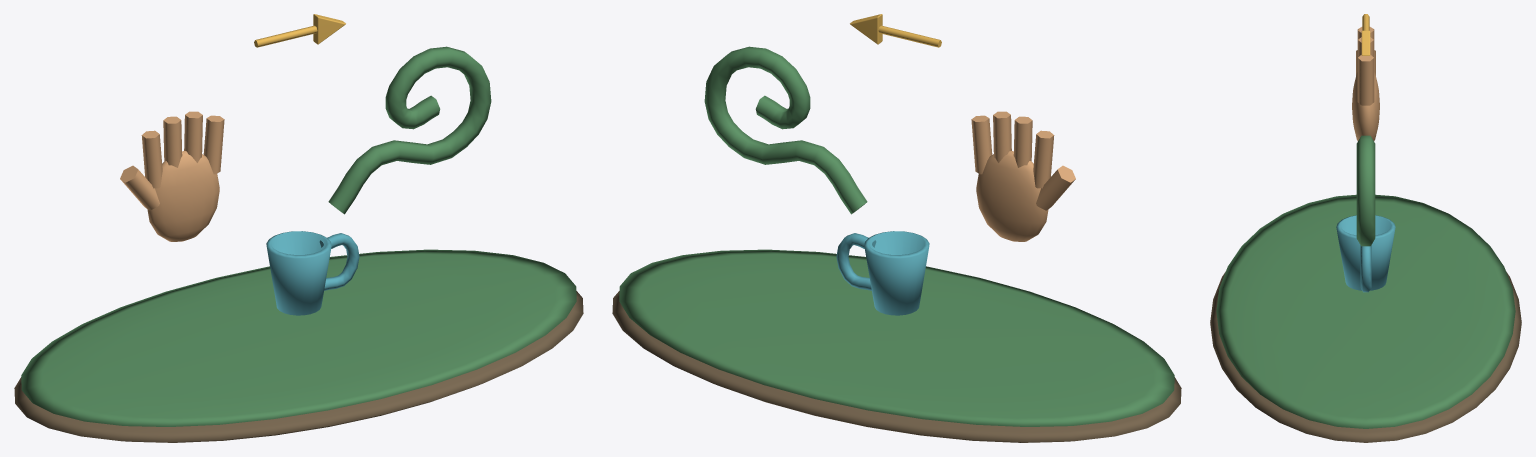
Rendered from complete-first-handle-object-tail.glb.
3 renders of one model, left to right at view 1: azimuth 30°, elevation 25°; view 2: azimuth 150°, elevation 25°; view 3: azimuth 270°, elevation 25°, orthographic. The views are drawn at different scales.
Visible parts, largest first — view 1: complete-first-handle-object-tail_surface_01, complete-first-handle-object-tail_surface_00, complete-first-handle-object-tail_surface_02, complete-first-handle-object-tail_surface_03, complete-first-handle-object-tail_surface_04; view 2: complete-first-handle-object-tail_surface_01, complete-first-handle-object-tail_surface_00, complete-first-handle-object-tail_surface_02, complete-first-handle-object-tail_surface_03, complete-first-handle-object-tail_surface_04; view 3: complete-first-handle-object-tail_surface_01, complete-first-handle-object-tail_surface_00, complete-first-handle-object-tail_surface_03, complete-first-handle-object-tail_surface_02, complete-first-handle-object-tail_surface_04.
Boxes of the visible parts, bbox=[...] form: complete-first-handle-object-tail_surface_01: bbox=[21, 46, 576, 426]; complete-first-handle-object-tail_surface_00: bbox=[14, 291, 583, 442]; complete-first-handle-object-tail_surface_02: bbox=[120, 111, 224, 241]; complete-first-handle-object-tail_surface_03: bbox=[266, 231, 359, 315]; complete-first-handle-object-tail_surface_04: bbox=[254, 14, 345, 47]; complete-first-handle-object-tail_surface_01: bbox=[619, 46, 1174, 426]; complete-first-handle-object-tail_surface_00: bbox=[612, 291, 1181, 442]; complete-first-handle-object-tail_surface_02: bbox=[971, 111, 1075, 241]; complete-first-handle-object-tail_surface_03: bbox=[836, 231, 929, 315]; complete-first-handle-object-tail_surface_04: bbox=[850, 14, 941, 47]; complete-first-handle-object-tail_surface_01: bbox=[1216, 135, 1515, 428]; complete-first-handle-object-tail_surface_00: bbox=[1210, 271, 1521, 442]; complete-first-handle-object-tail_surface_03: bbox=[1336, 215, 1395, 292]; complete-first-handle-object-tail_surface_02: bbox=[1352, 27, 1379, 140]; complete-first-handle-object-tail_surface_04: bbox=[1361, 14, 1370, 55].
Bounding box in the file's own units: 4.56 × 2.78 × 2.5.
